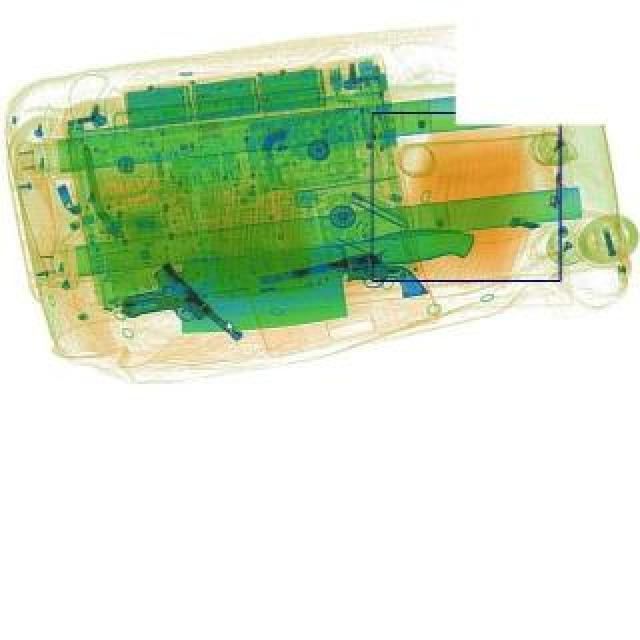gun: (112, 260, 242, 378), (256, 242, 428, 324)
knife: (170, 222, 480, 336)
